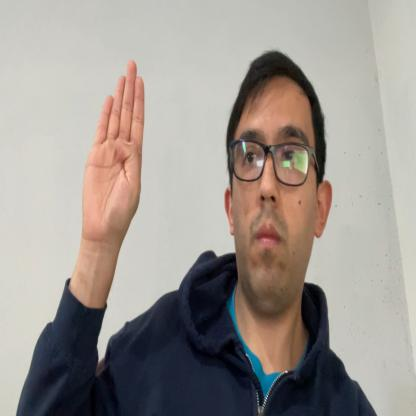B: (81, 57, 145, 249)
